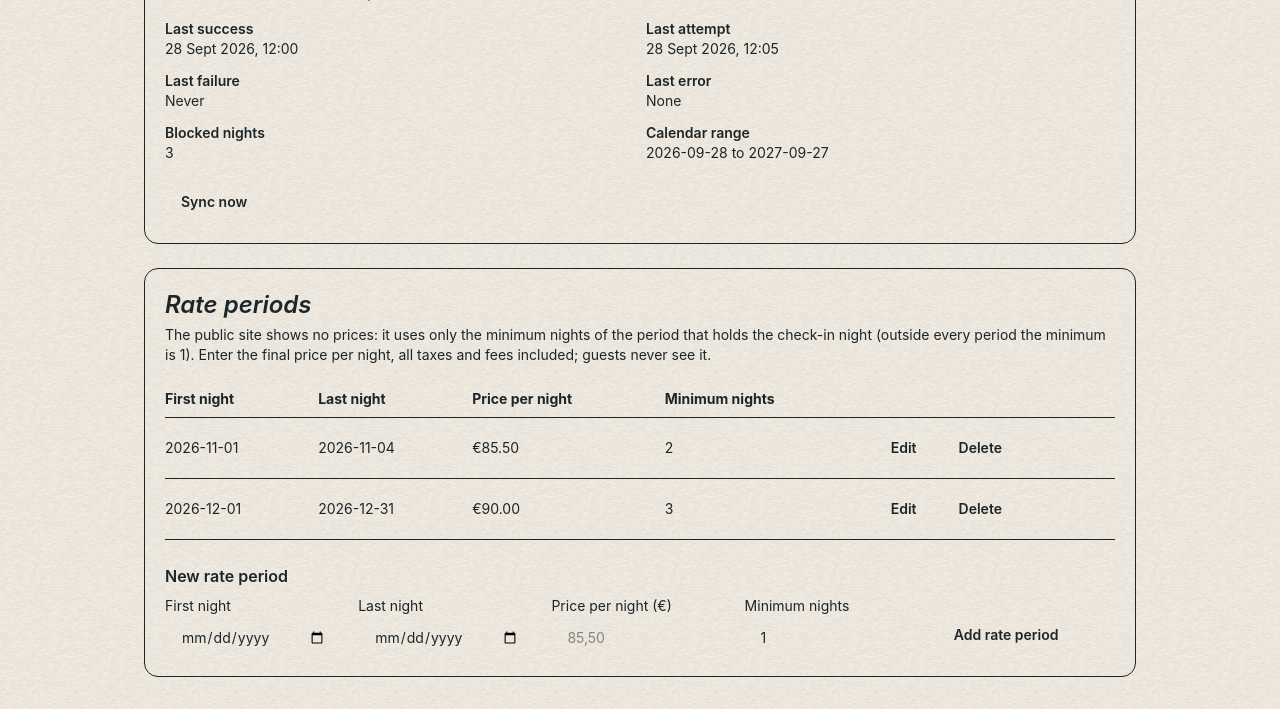
Test: admin availability & prices › rate periods › keeps the saved message when the list reload fails
(page scrolled)
Check: the table named "Rate periods" is shown, box x1=165 y1=381 x2=1115 y2=540
In the date field labelled "First night": point(254, 638) x1=165 y1=620 x2=342 y2=656, type "2026-10-01"
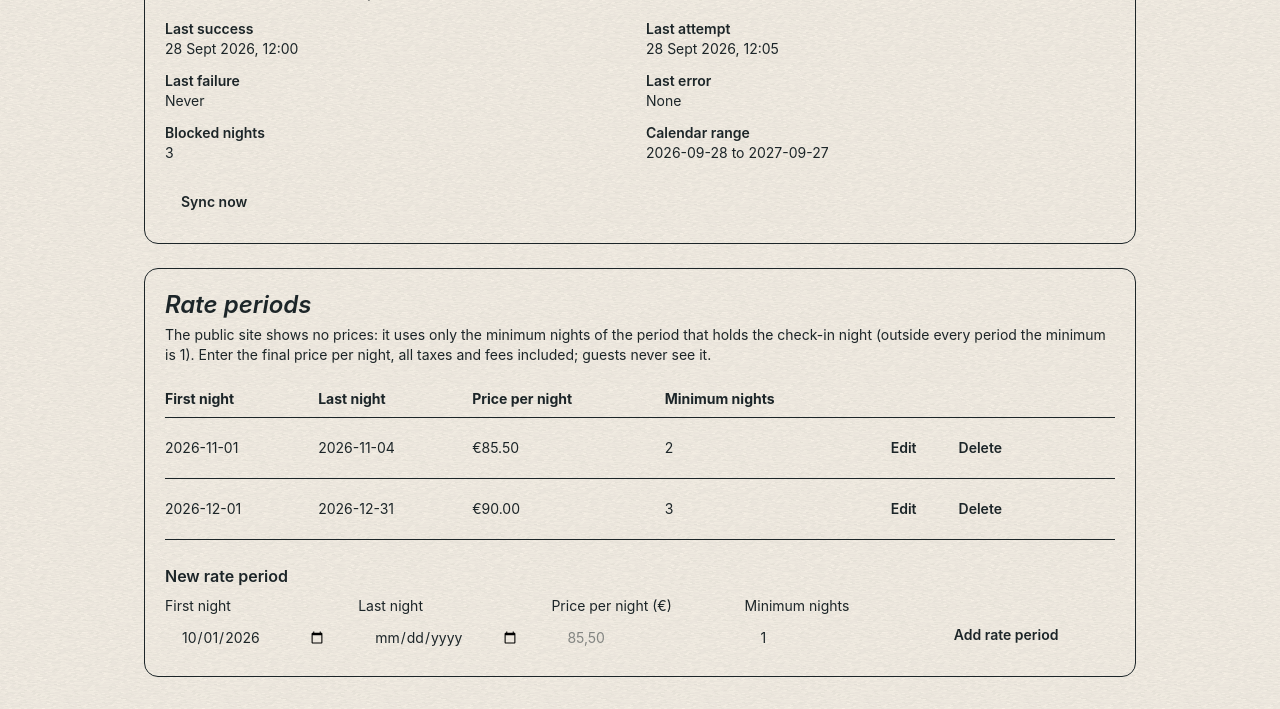
In the date field labelled "Last night": point(447, 638) x1=358 y1=620 x2=535 y2=656, type "2026-10-31"
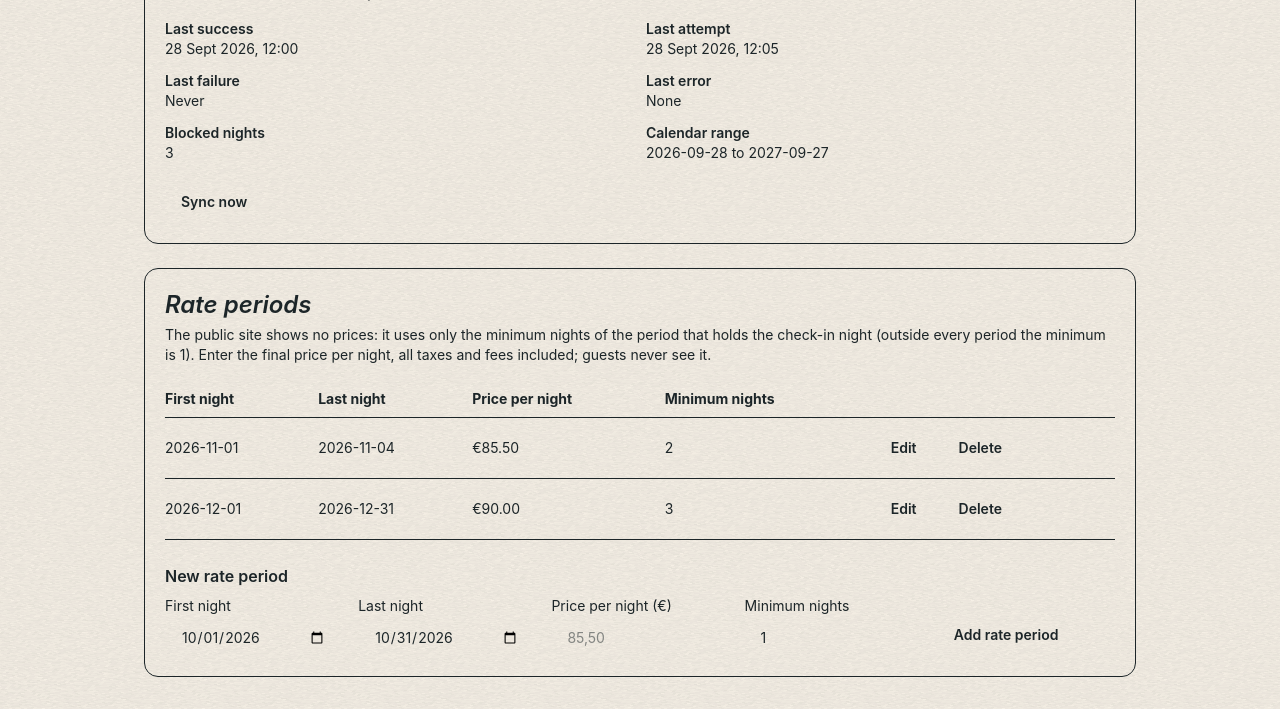
In the field labelled "Price per night (€)": point(640, 638) x1=551 y1=620 x2=729 y2=656, type "85"
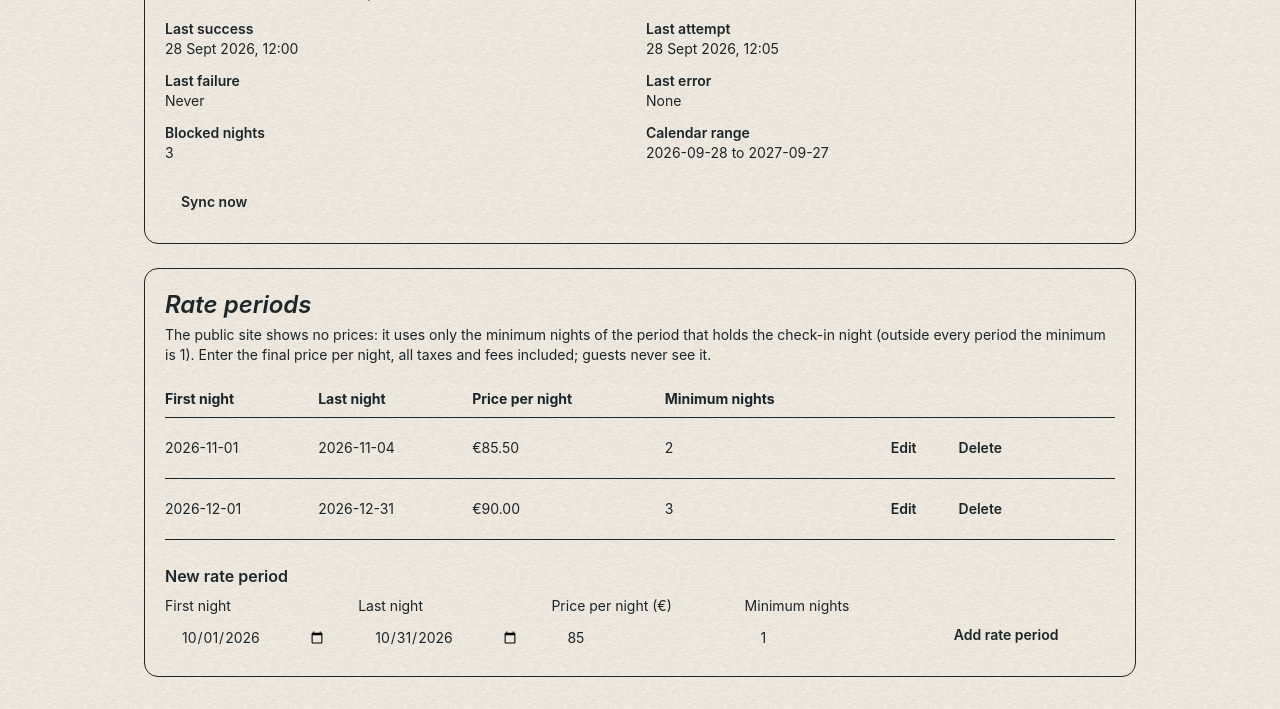
Replace the text in the number field labelled "Minimum nights" with "2": point(833, 638) x1=745 y1=620 x2=922 y2=656
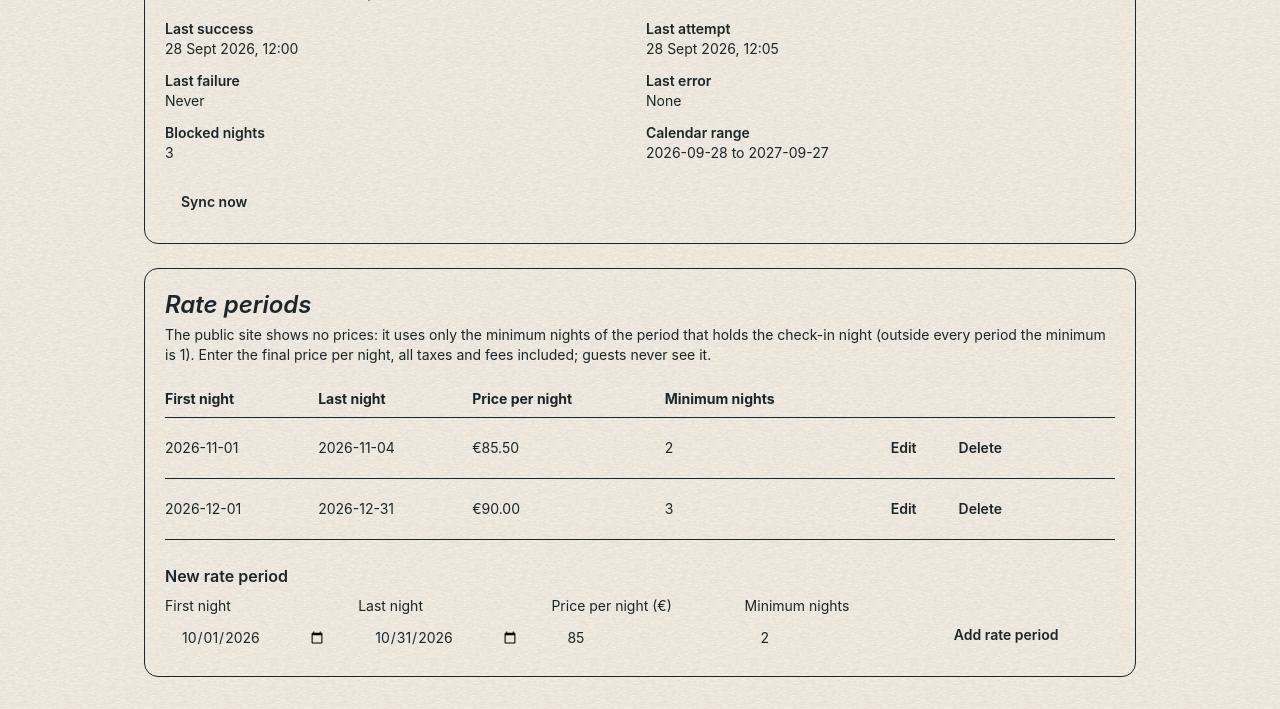
Click the button "Add rate period": point(1006, 634) x1=938 y1=612 x2=1074 y2=656
(page scrolled)
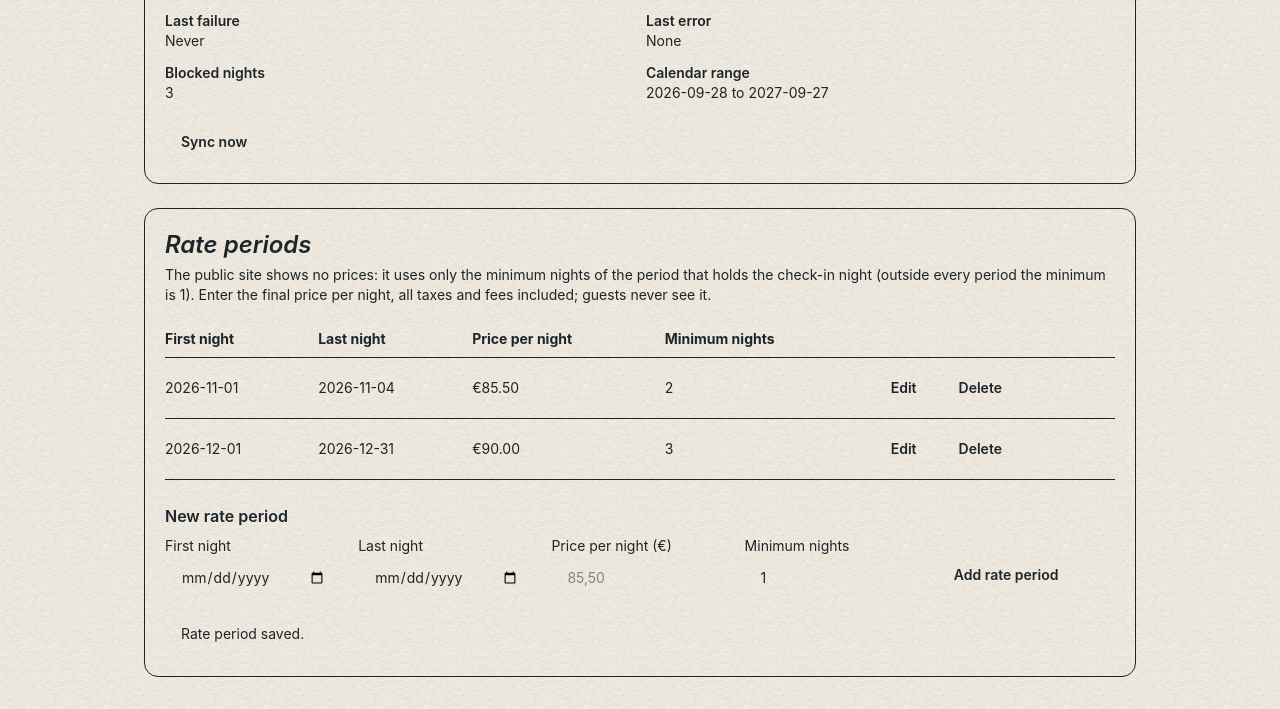
Check: the text "Rate period saved." is shown, box x1=181 y1=625 x2=304 y2=642
